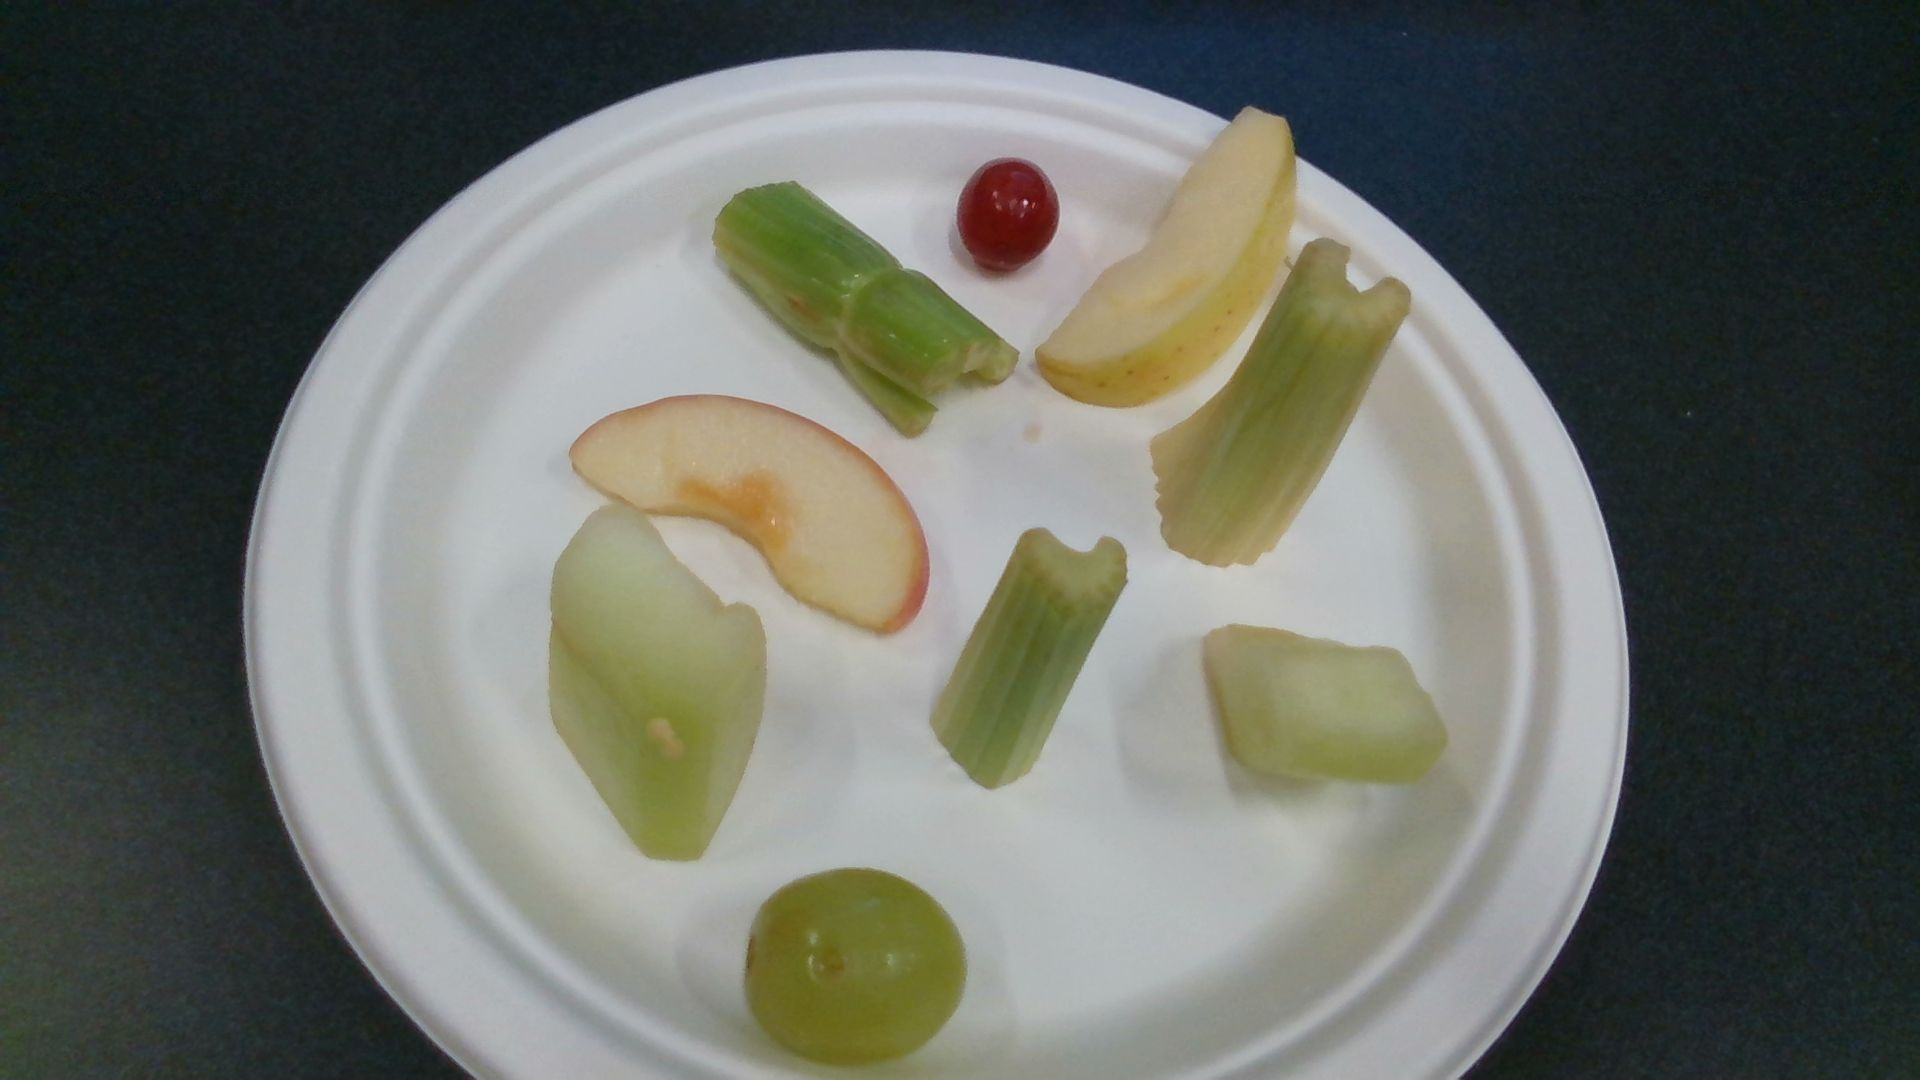apple: (572, 396, 924, 636), (1035, 108, 1294, 406)
cantalope: (553, 508, 762, 865), (1203, 626, 1449, 781)
celery: (1154, 240, 1408, 564), (715, 179, 1021, 438), (930, 527, 1124, 789)
grape_green: (746, 870, 967, 1068)
grape_purple: (959, 164, 1060, 272)
